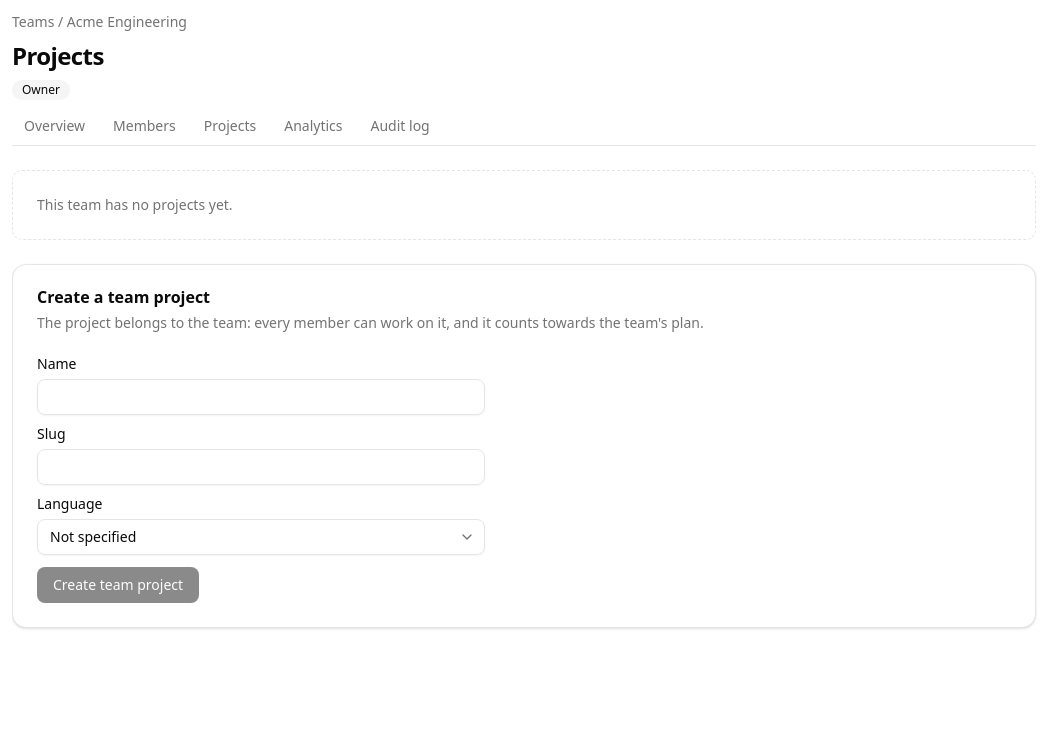
Test: OrganizationProjects › shows the plan limit when the team has no project slot left
Type "Fourth" into the field labelled "Name" at (261, 397), box [37,379,485,415]
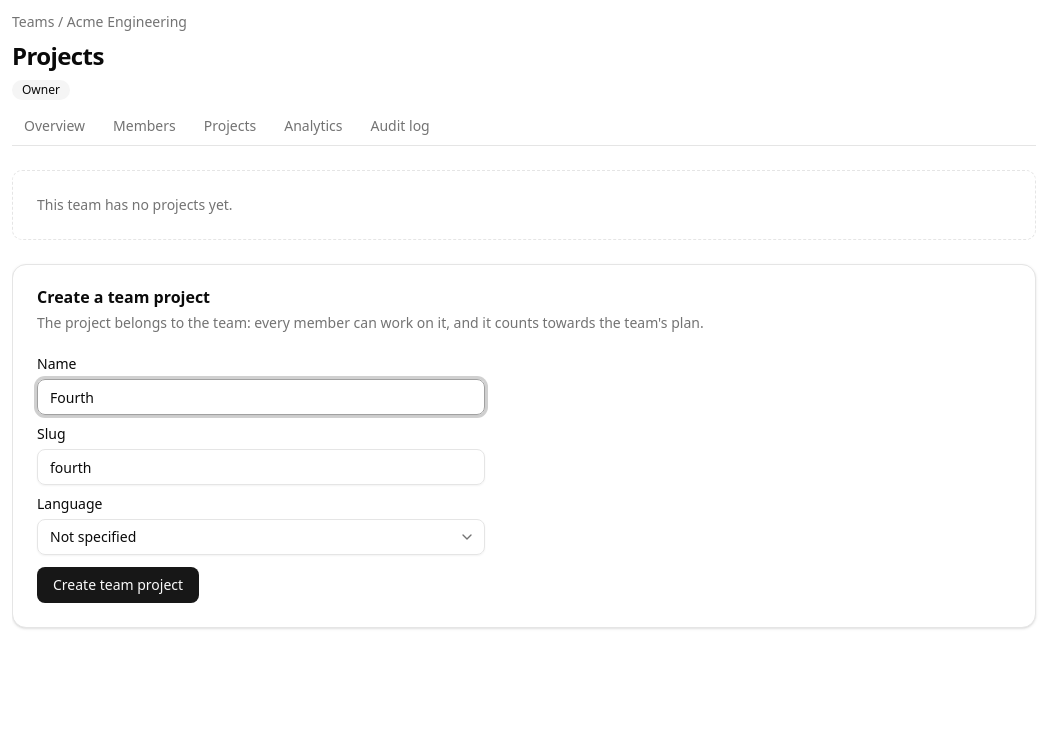
Click the button "Create team project" at (118, 585), box [37,567,199,603]
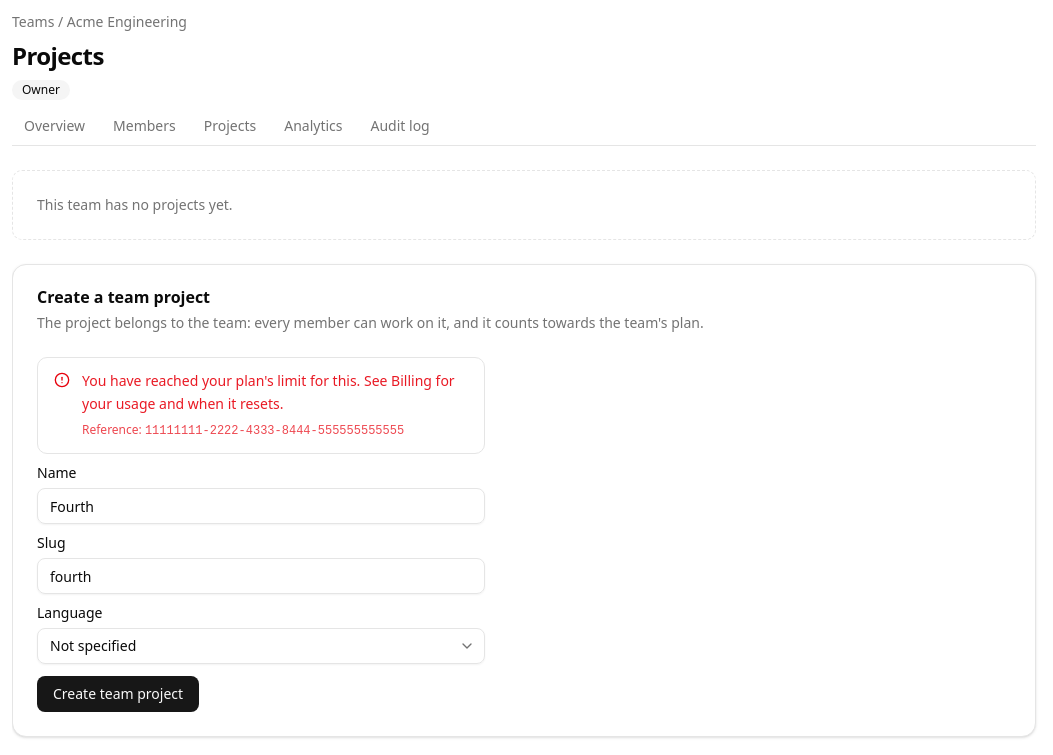
Now the text "reached your plan's limit" is shown, box [82,371,455,413]
